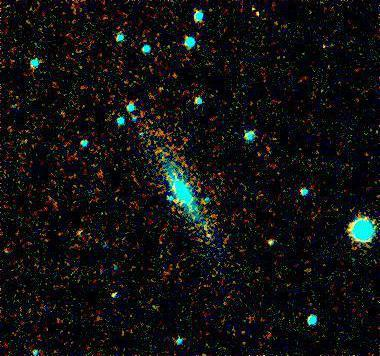star: (193, 218, 223, 248)
